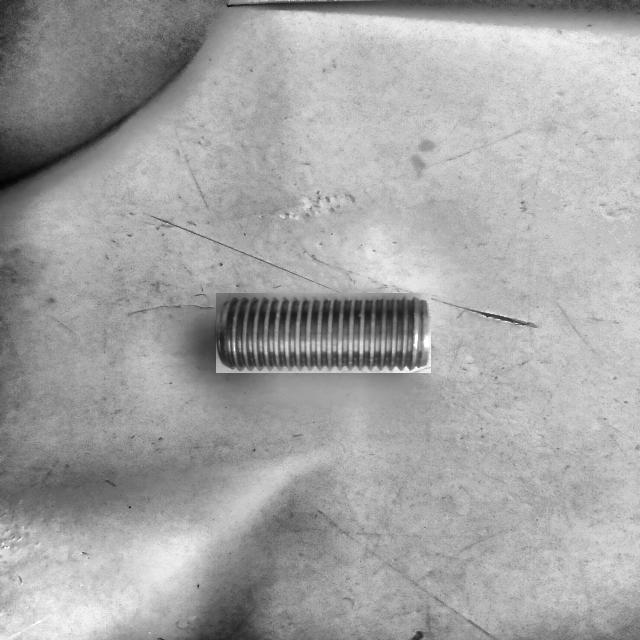Normal: (216, 293, 431, 373)
